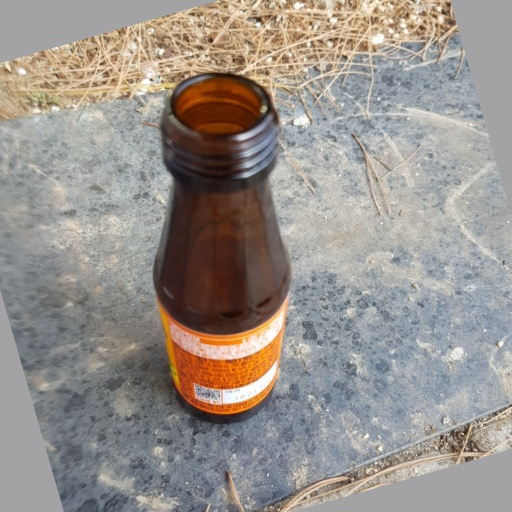Glass_3: (155, 71, 295, 425)
